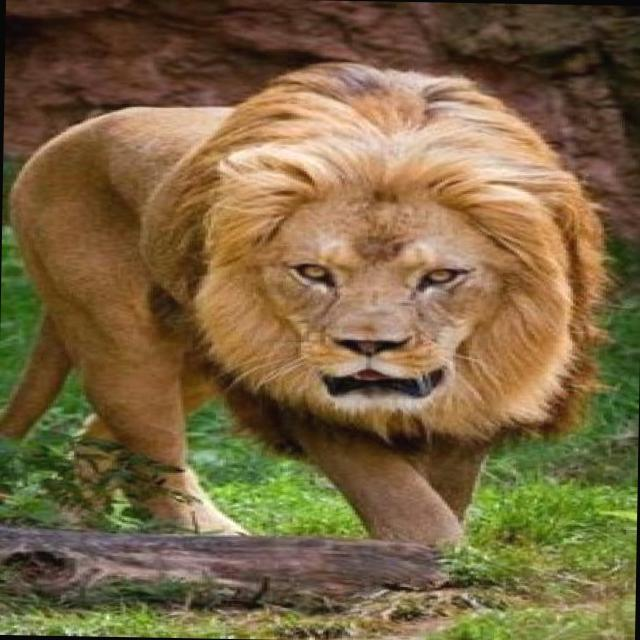lions: (0, 30, 640, 597)
